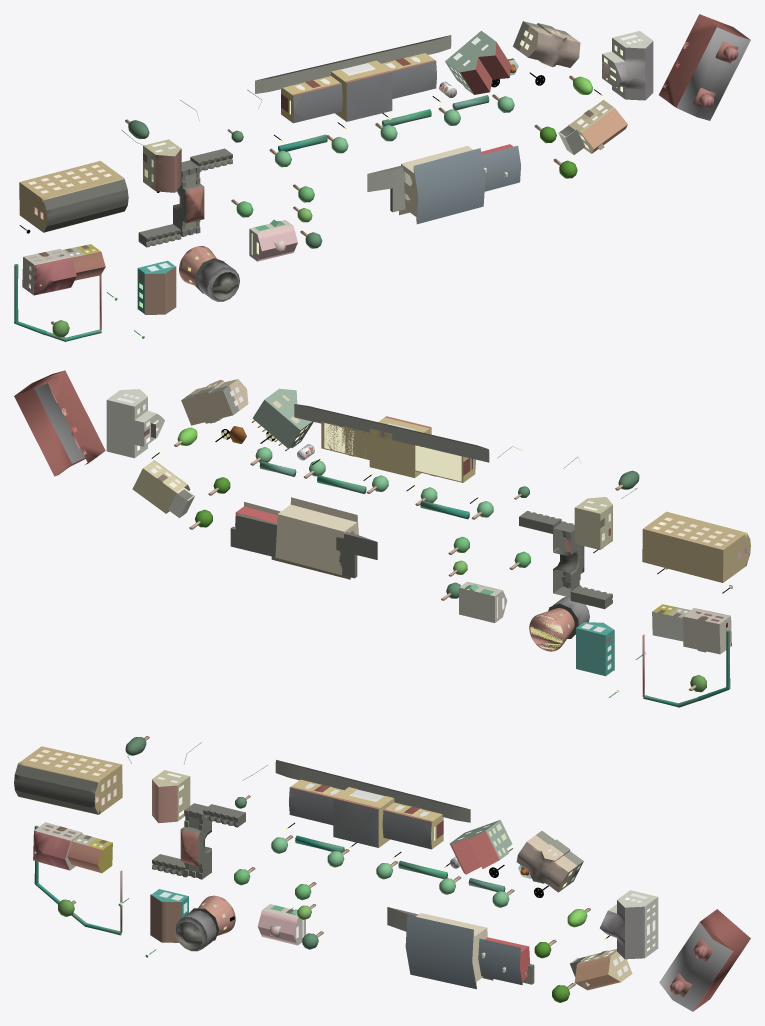
The model's file is background-3d.glb.
3 views of the same model, one above another, from view 1: azimuth 30°, elevation 25°; view 2: azimuth 150°, elevation 25°; view 3: azimuth 330°, elevation 25° (orthographic).
Parts seen in each view (by area): view 1: Cube55, Cube42 (×2), Cube40, Cube41_sep44, Cube47, Cube50, Cube52_sep53, Cylinder37, Cube51, Cube70, Cube48, Cube43 (+2 smaller); view 2: Cube42 (×2), Cube40, Cube55, Cube41_sep44, Cube50, Cube47, Cube70, Cube52_sep53, Cylinder37, Cube51, Cube48, Cube43 (+2 smaller); view 3: Cube55, Cube42 (×2), Cube40, Cube41_sep44, Cube50, Cube47, Cube70, Cylinder37, Cube52_sep53, Cube43, Cube51, Cube48 (+2 smaller).
Boxes of the visible parts, box(x1,y1,x2,y2) form: Cube55: box(255, 35, 451, 123); Cube42 (×2): box(138, 14, 750, 247); Cube40: box(367, 144, 520, 224); Cube41_sep44: box(19, 161, 128, 232); Cube47: box(22, 244, 105, 295); Cube50: box(602, 31, 653, 100); Cube52_sep53: box(445, 30, 510, 94); Cylinder37: box(179, 246, 239, 301); Cube51: box(558, 100, 627, 154); Cube70: box(513, 21, 580, 67); Cube48: box(137, 260, 176, 314); Cube43: box(143, 139, 181, 192); Cube42 (×2): box(14, 370, 612, 609); Cube40: box(230, 497, 377, 579); Cube55: box(294, 404, 489, 482); Cube41_sep44: box(642, 511, 750, 582); Cube50: box(106, 389, 164, 458); Cube47: box(652, 604, 731, 654); Cube70: box(181, 379, 248, 425); Cube52_sep53: box(251, 388, 313, 451); Cylinder37: box(529, 596, 589, 651); Cube51: box(132, 460, 194, 517); Cube48: box(576, 622, 614, 676); Cube43: box(574, 497, 612, 549); Cube55: box(275, 760, 470, 849); Cube42 (×2): box(152, 803, 750, 1011); Cube40: box(387, 907, 534, 989); Cube41_sep44: box(14, 746, 122, 814); Cube50: box(600, 890, 658, 959); Cube47: box(33, 822, 112, 873); Cube70: box(516, 831, 583, 892); Cylinder37: box(175, 895, 235, 951); Cube52_sep53: box(449, 820, 513, 874); Cube43: box(152, 770, 190, 823); Cube51: box(569, 949, 632, 990); Cube48: box(150, 889, 188, 942).
Size of what is drawn, in the model's own units: 0.7785 by 0.2294 by 0.0593.
27 materials, 15 textured.
